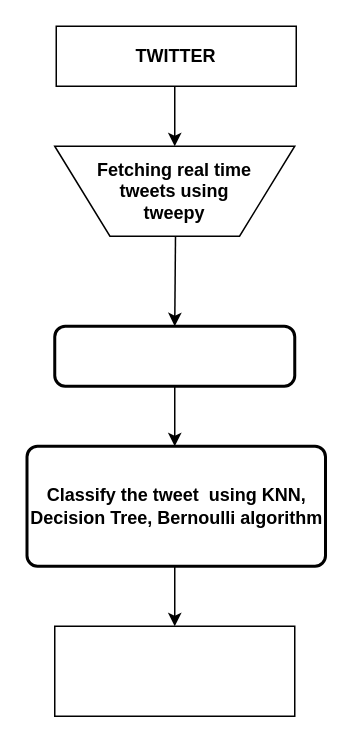
This 353x743 diagram has some shape labels left out. Here are the shapes that lost their labels. From the top down, the centre of each, then its label:
At point (174, 355): "Preprocess the Tweet and Tokenization".
At point (174, 670): "Tweet Classified as Joy, Sad, Anger, Optimistic".
